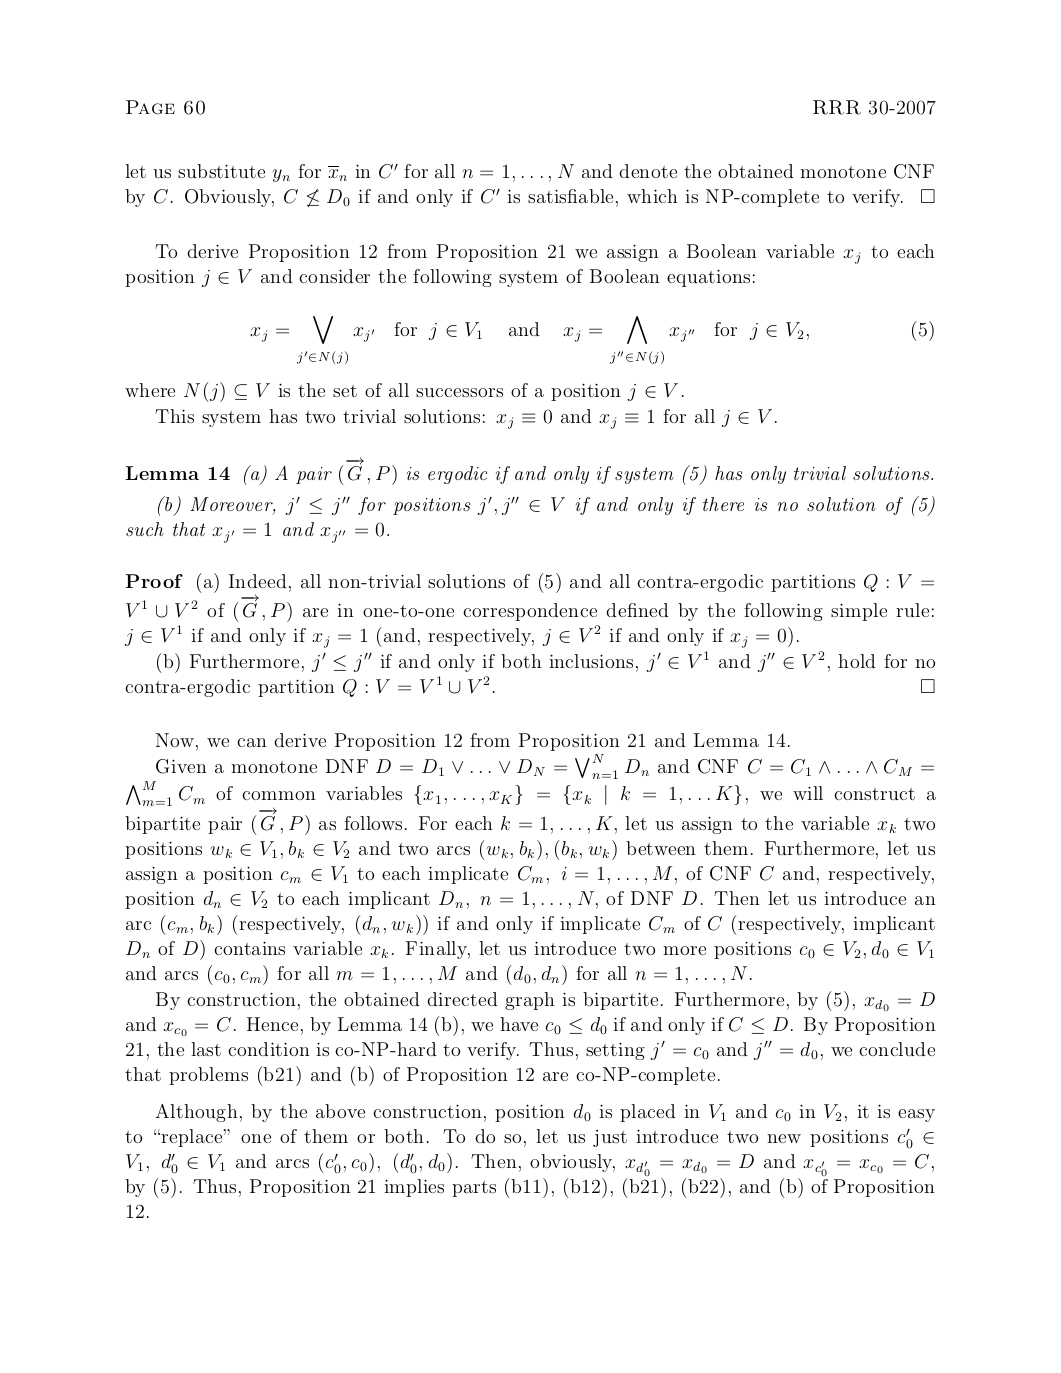formula: (250, 317, 933, 364)
